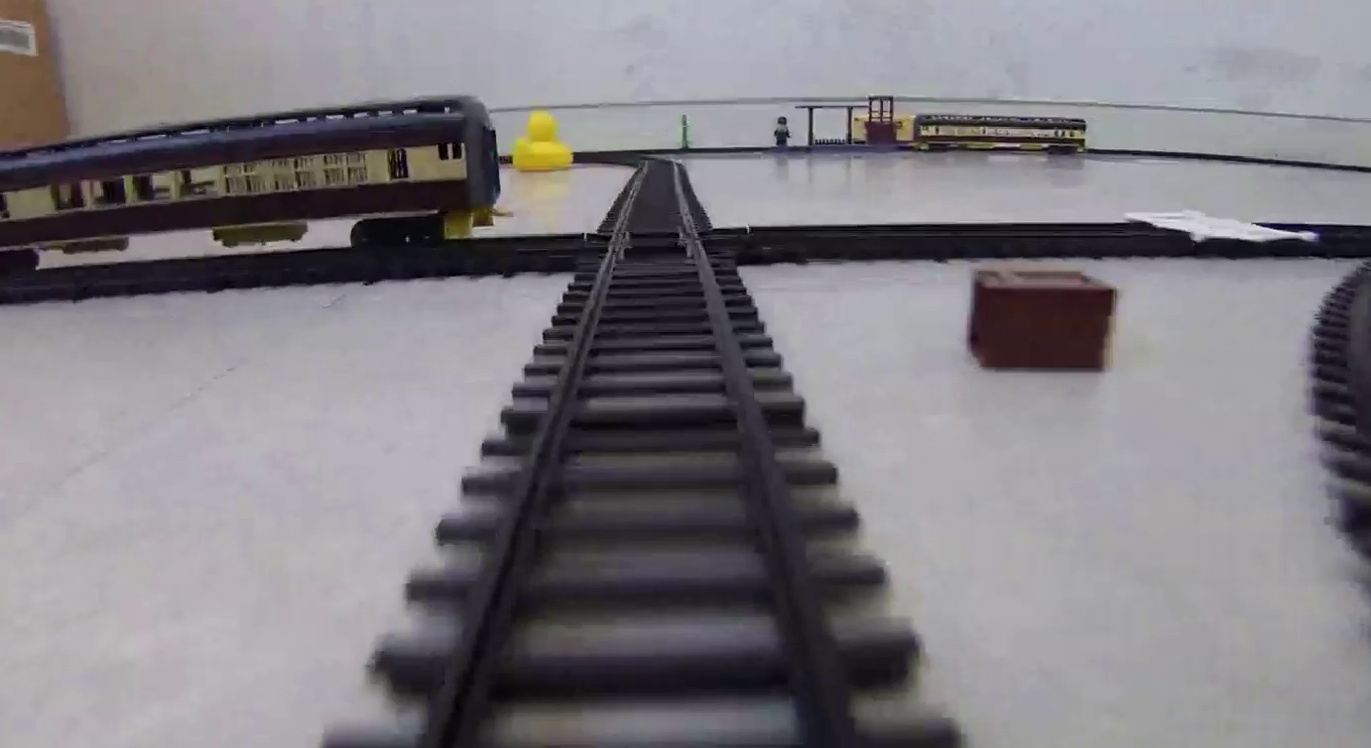box: (971, 270, 1117, 375)
web: (1126, 206, 1318, 241)
